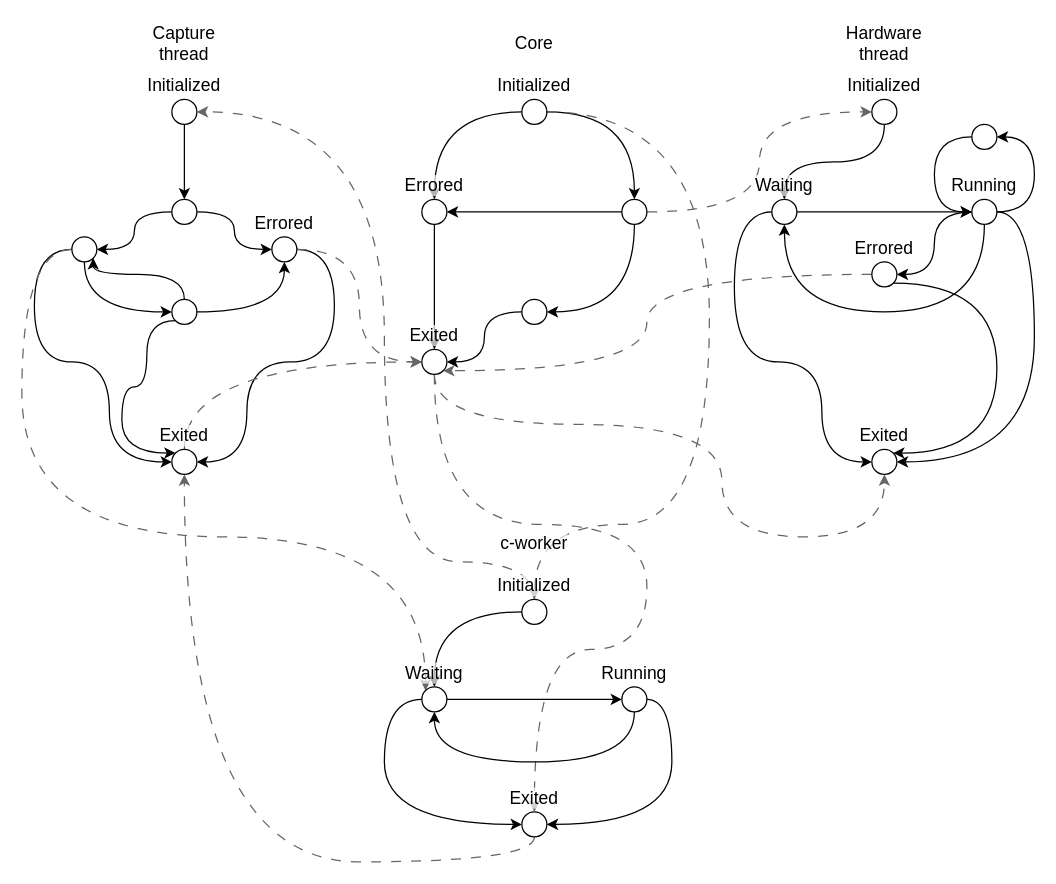
The diagram is 1056 pixels wide and 884 high, and some of its shapes have lost their labels. Each missing label, with the box of its shape:
Connected: (71, 236, 97, 262)
Connecting: (171, 198, 197, 224)
Loading Config: (621, 198, 647, 224)
Paused: (171, 298, 197, 324)
RetryNeeded: (971, 123, 997, 149)
Running loop: (521, 298, 547, 324)
